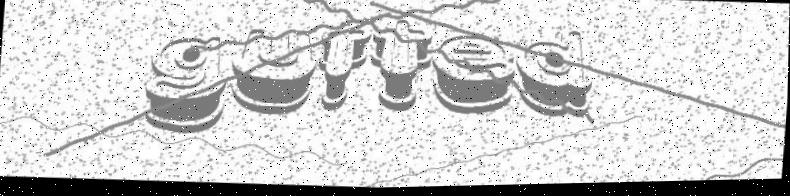d: (510, 28, 605, 127)
e: (427, 29, 523, 121)
g: (133, 29, 236, 138)
t: (364, 17, 438, 119), (311, 14, 372, 116)
u: (229, 17, 319, 125)
